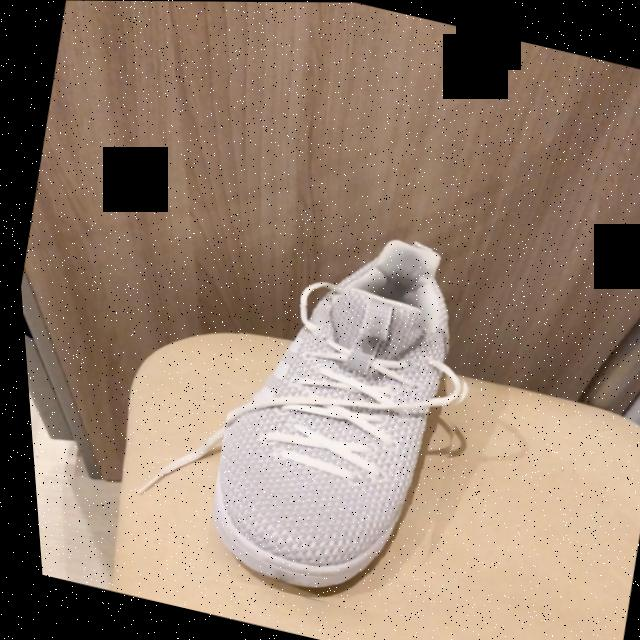shoe: (203, 242, 458, 599)
